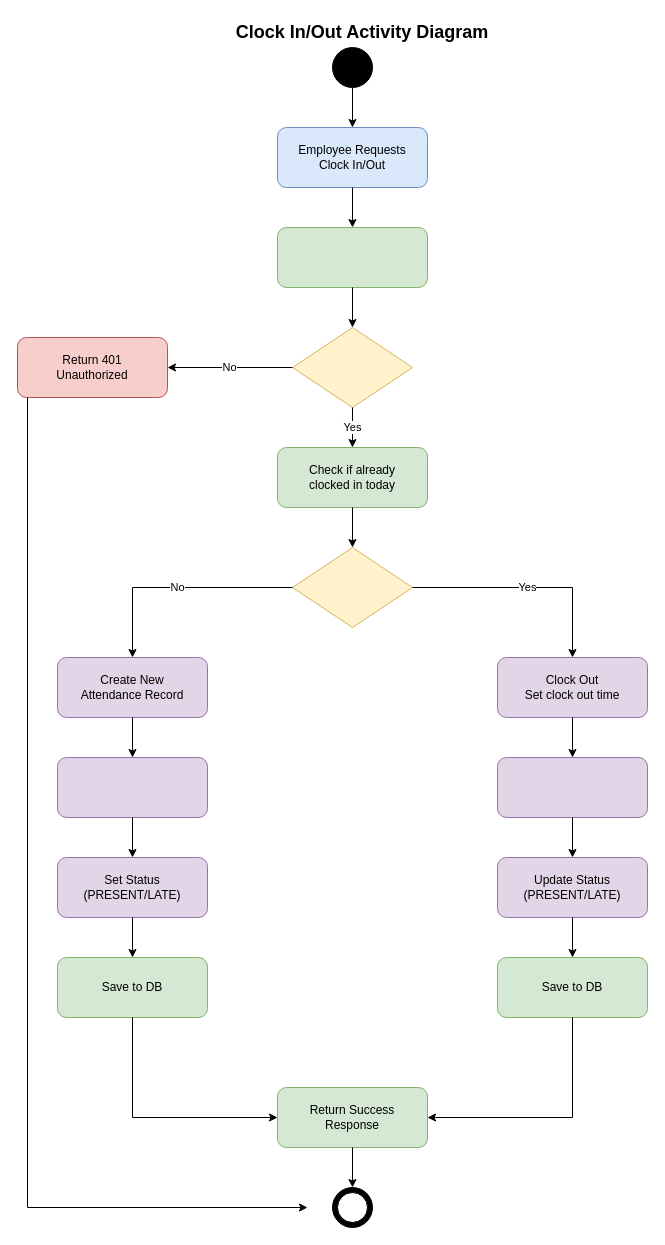
The diagram is 665 pixels wide and 1245 high, and some of its shapes have lost their labels. Here are the shapes that lost their labels. From the top down, the centre of each, then its label:
At pixel 352 257: "Verify JWT Token".
At pixel 352 367: "Valid?".
At pixel 352 587: "Already Clocked In?".
At pixel 132 787: "Set clock in time & date".
At pixel 572 787: "Calculate Work Hours".
